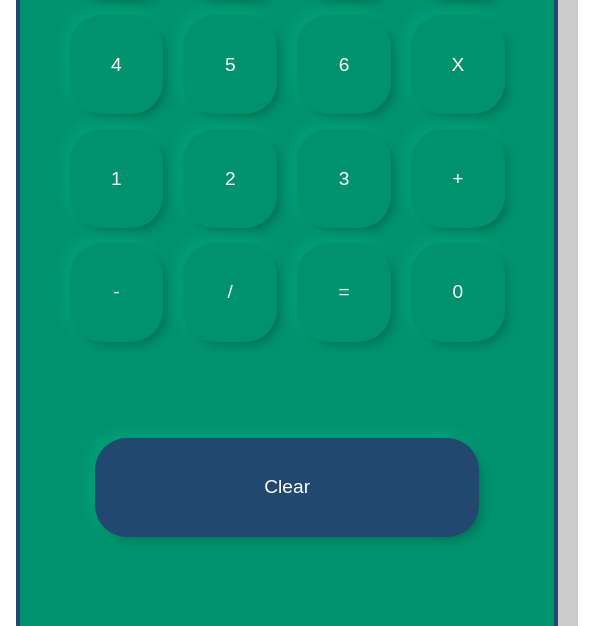
Test on CalculatorComponent › When the button has been pressed without an operation performed an error should be displayed on the input
(page scrolled)
Click the button "=". click: (344, 292)
box: left=297, top=243, right=391, bottom=342
(page scrolled)
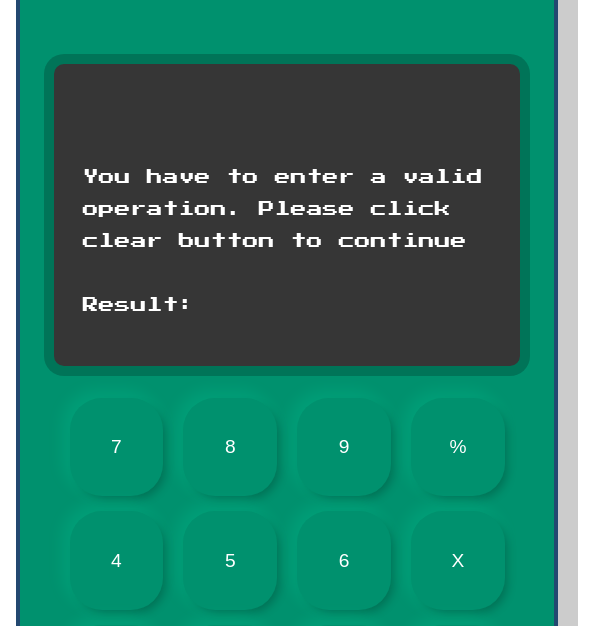
Check: the text named "errorMessage" reads "You have to enter a valid operation. Please click clear button to continue", box left=83, top=169, right=483, bottom=249
